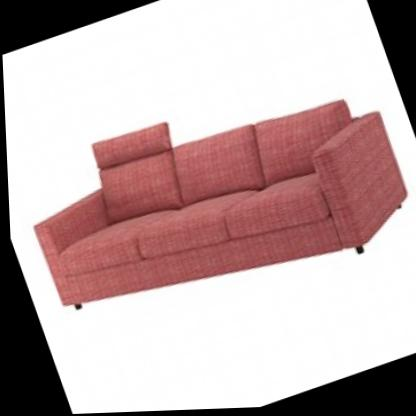Sofa: (1, 27, 416, 379)
